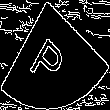P_NE: (33, 23, 77, 87)
